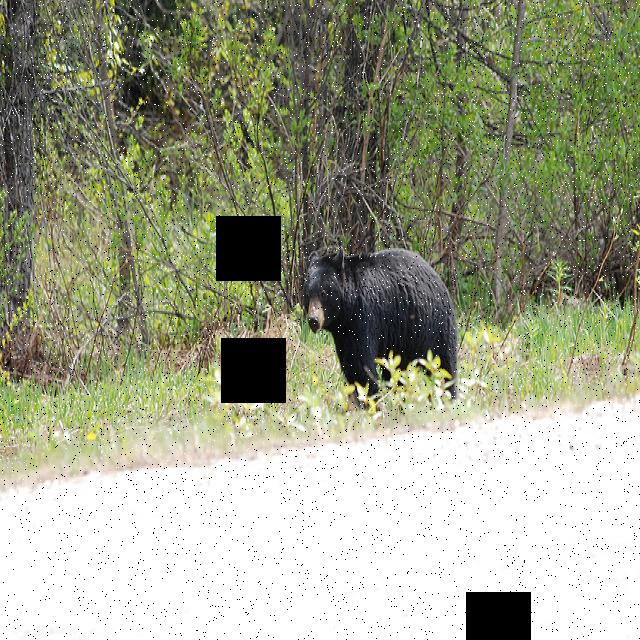Bear: (299, 244, 466, 397)
